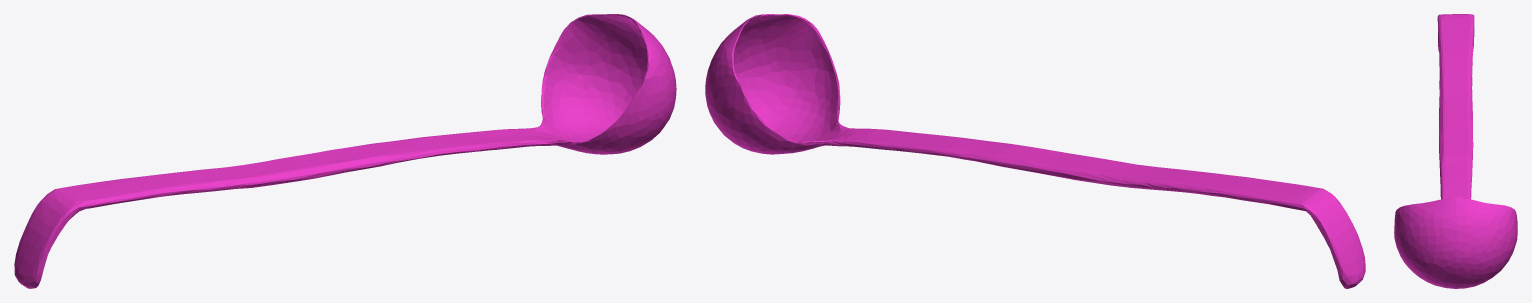
File: ladle_detailed.dae
The picture shows the model from 3 angles, left to right: view 1: azimuth 30°, elevation 25°; view 2: azimuth 150°, elevation 25°; view 3: azimuth 270°, elevation 25°; orthographic projection. The views are drawn at different scales.
Visible parts, largest first — view 1: geometry_0; view 2: geometry_0; view 3: geometry_0.
Part boxes in pixels (left/top/right/bottom): geometry_0: left=14, top=14, right=676, bottom=288; geometry_0: left=705, top=14, right=1365, bottom=288; geometry_0: left=1394, top=14, right=1517, bottom=288.
Size of the model in its own units: 0.1988 by 0.0424 by 0.0359.
